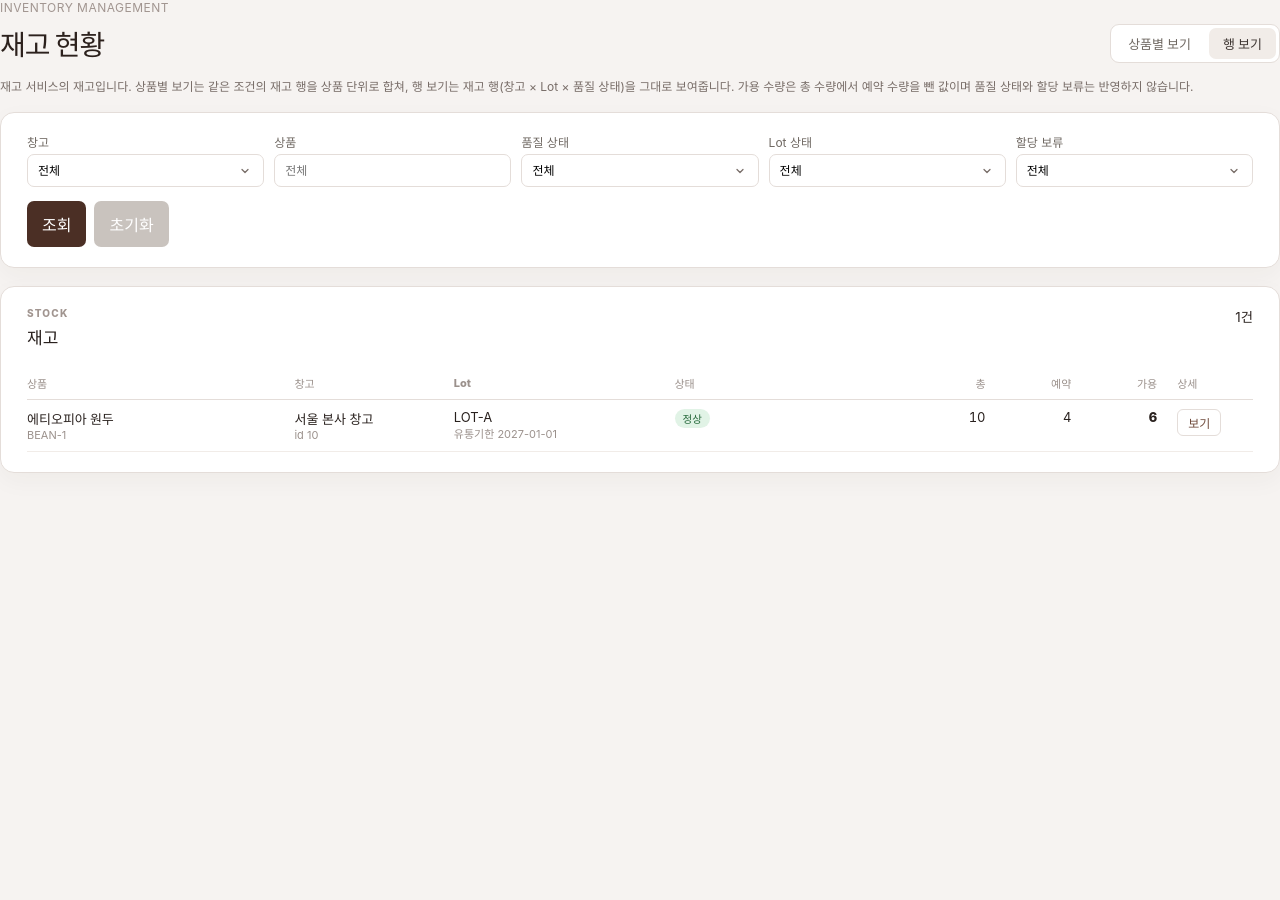
StockPage › 이력이 없거나 이력 조회에 실패해도 상세는 그대로 보인다
Click the button with aria-label "상세 보기": x=1199, y=422 [1177,409,1221,436]
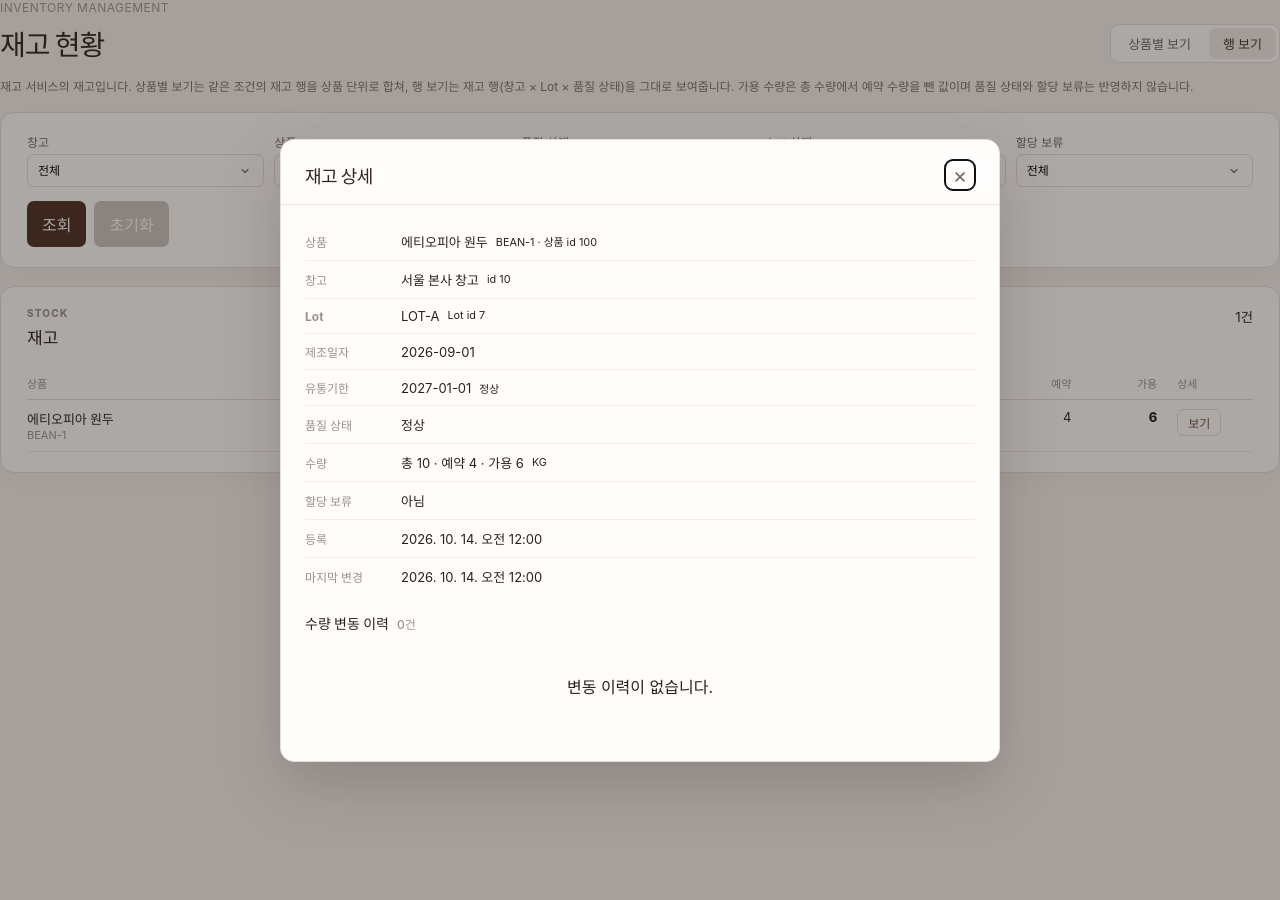
Check: the text "변동 이력이 없습니다." is shown, box [567,676,713,696]
